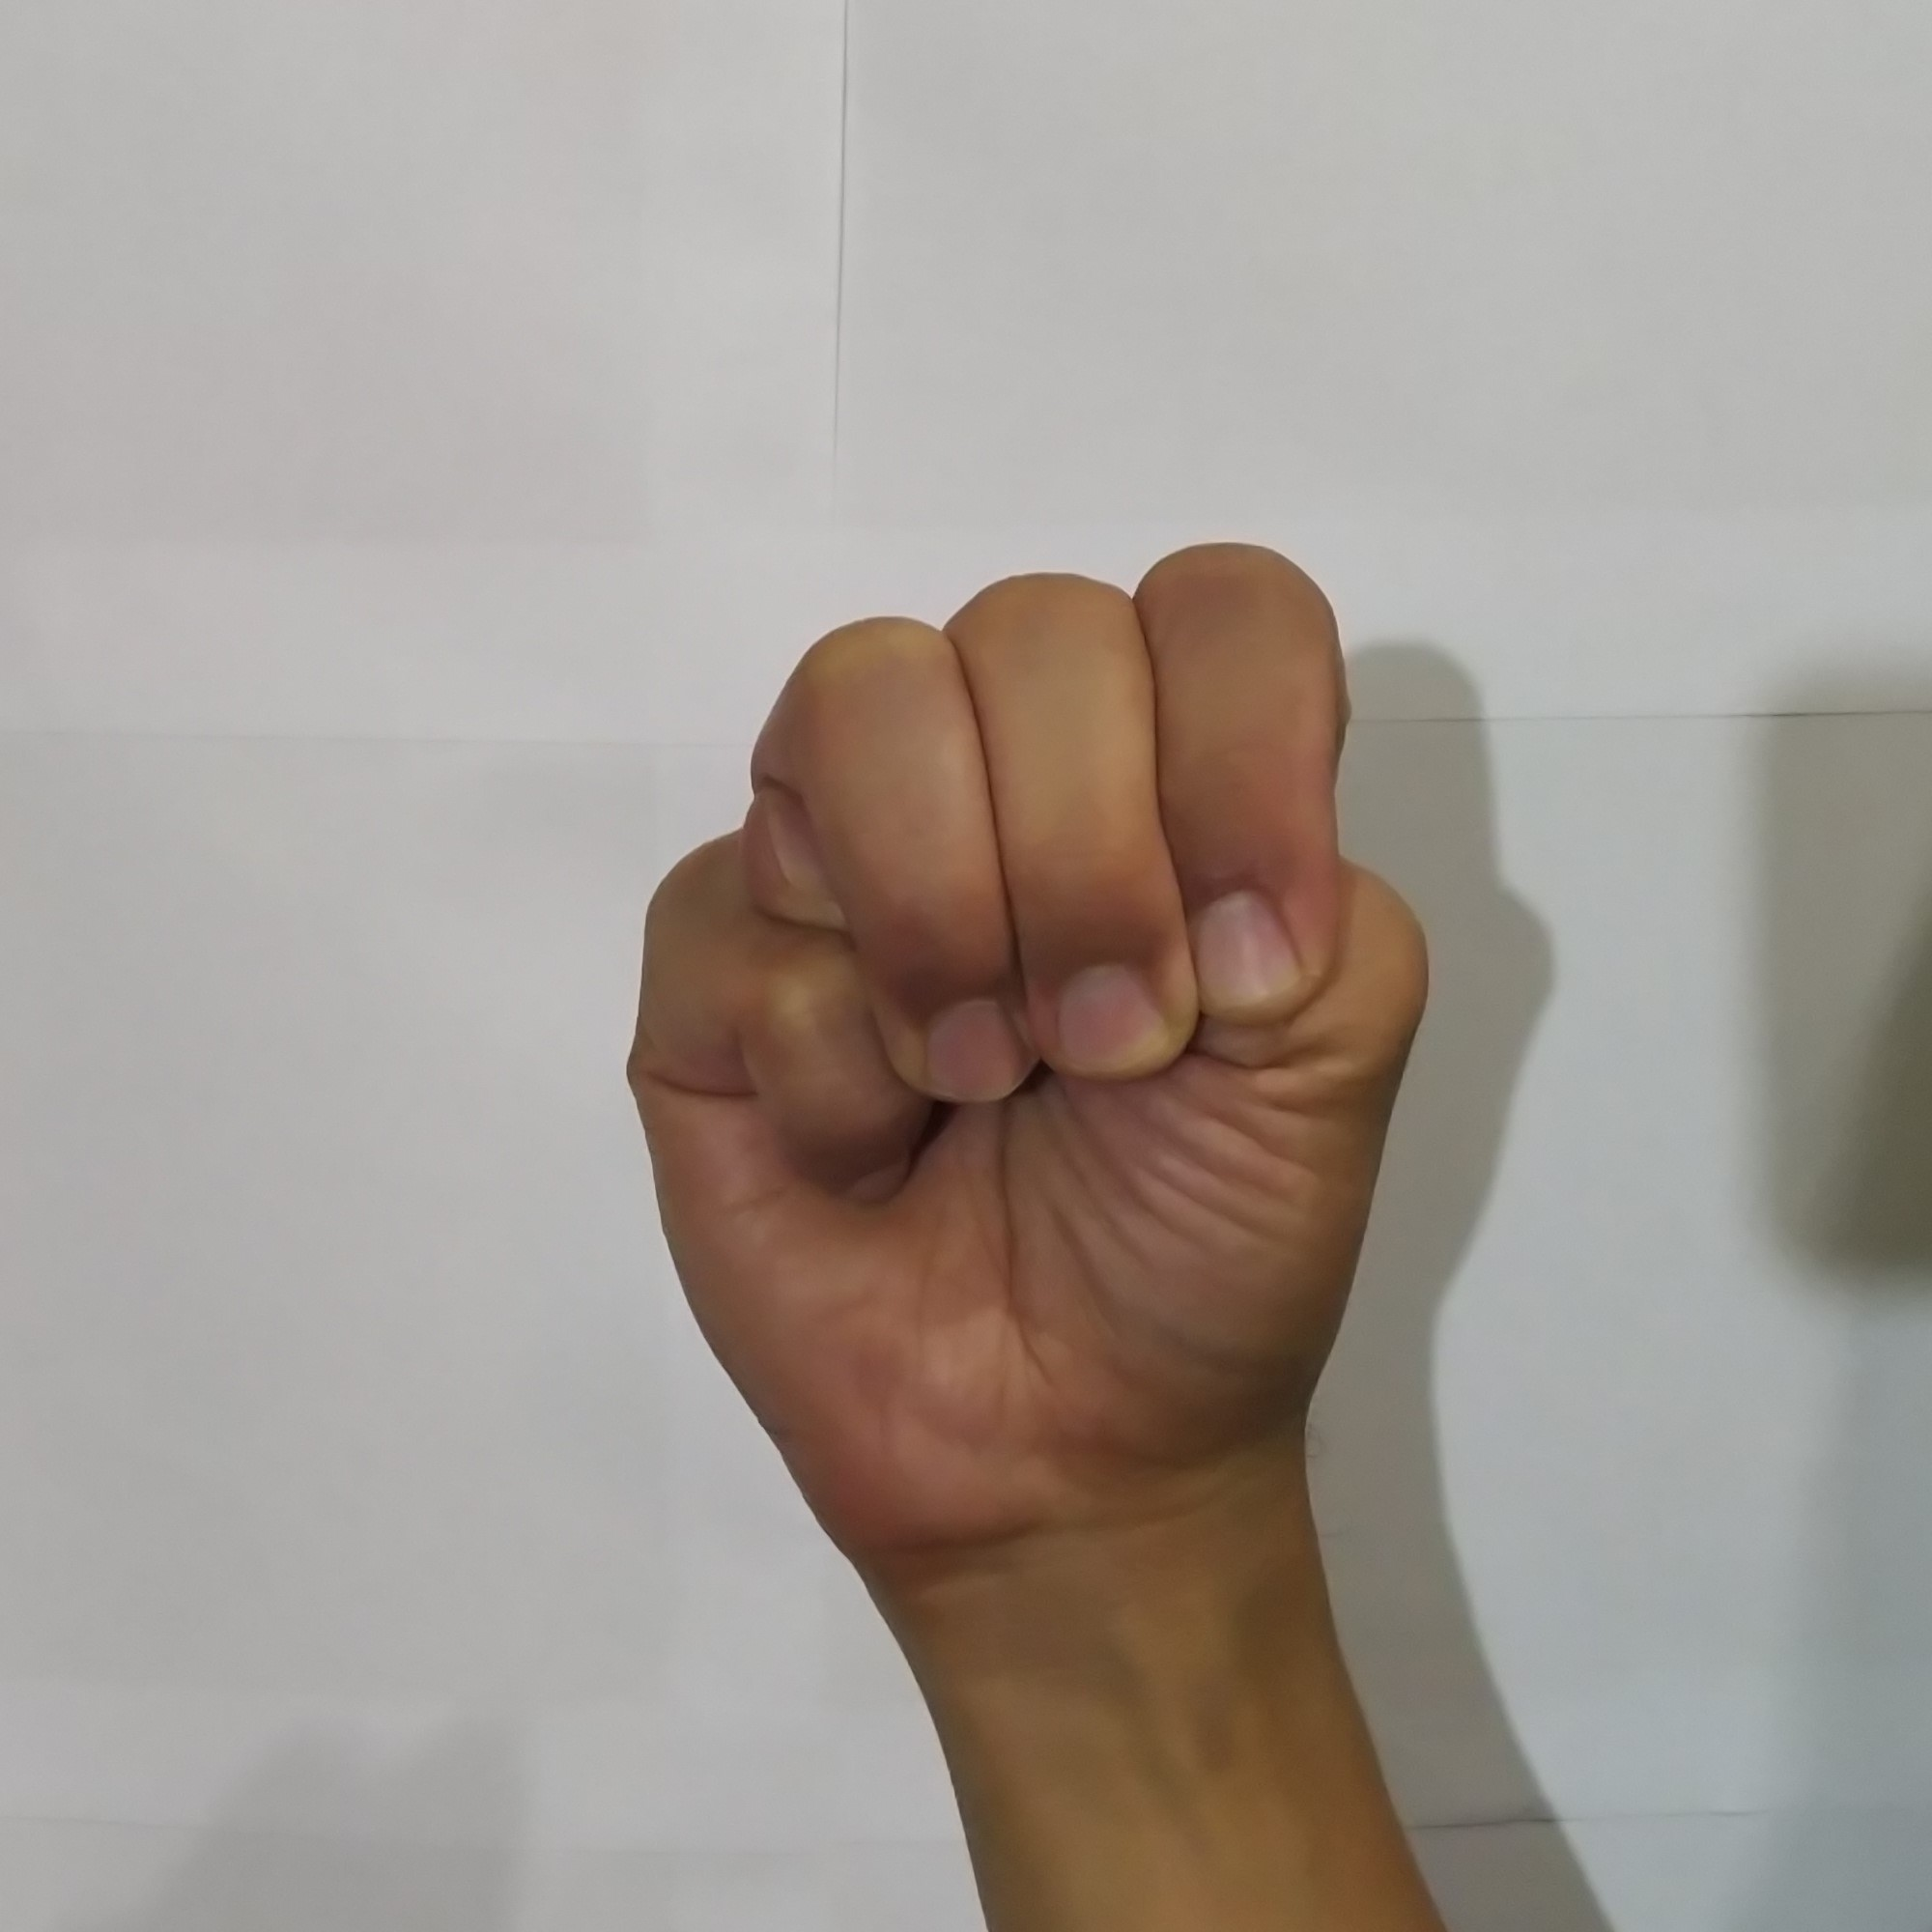M: (598, 518, 1454, 1486)
